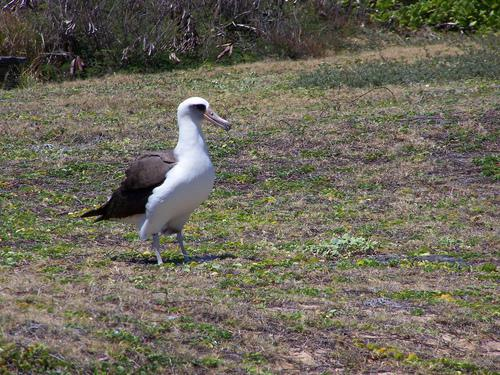002.Laysan_Albatross: (81, 97, 236, 269)
